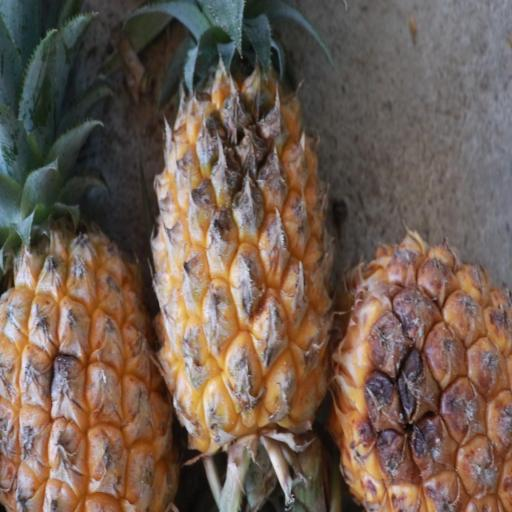Pineapple - v8 v1: (0, 0, 180, 512), (143, 2, 338, 462), (332, 235, 512, 512)
